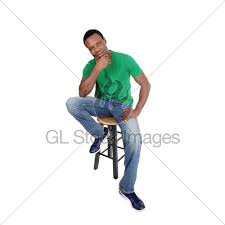sitting: (59, 25, 161, 211)
